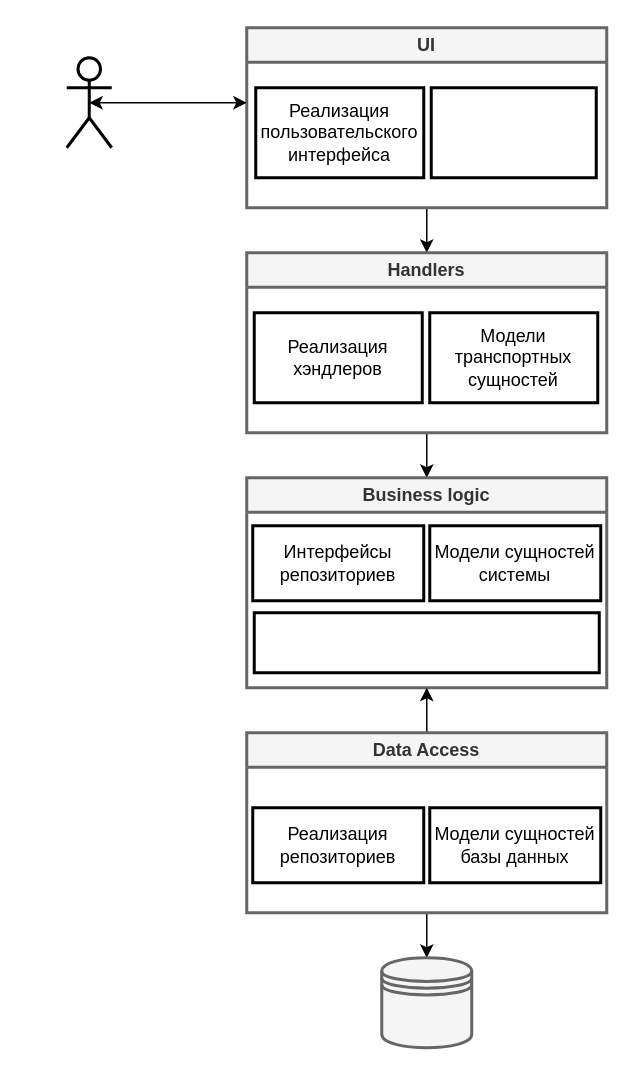
This 635x1074 diagram has some shape labels left out. Each missing label, with the centre of its shape:
"DB" goes at (x=426, y=1002).
"Интерфейсы вызова HTTP API" goes at (x=513, y=132).
"Пользователь" goes at (x=88, y=102).
"Реализация бизнес логики" goes at (x=426, y=642).
